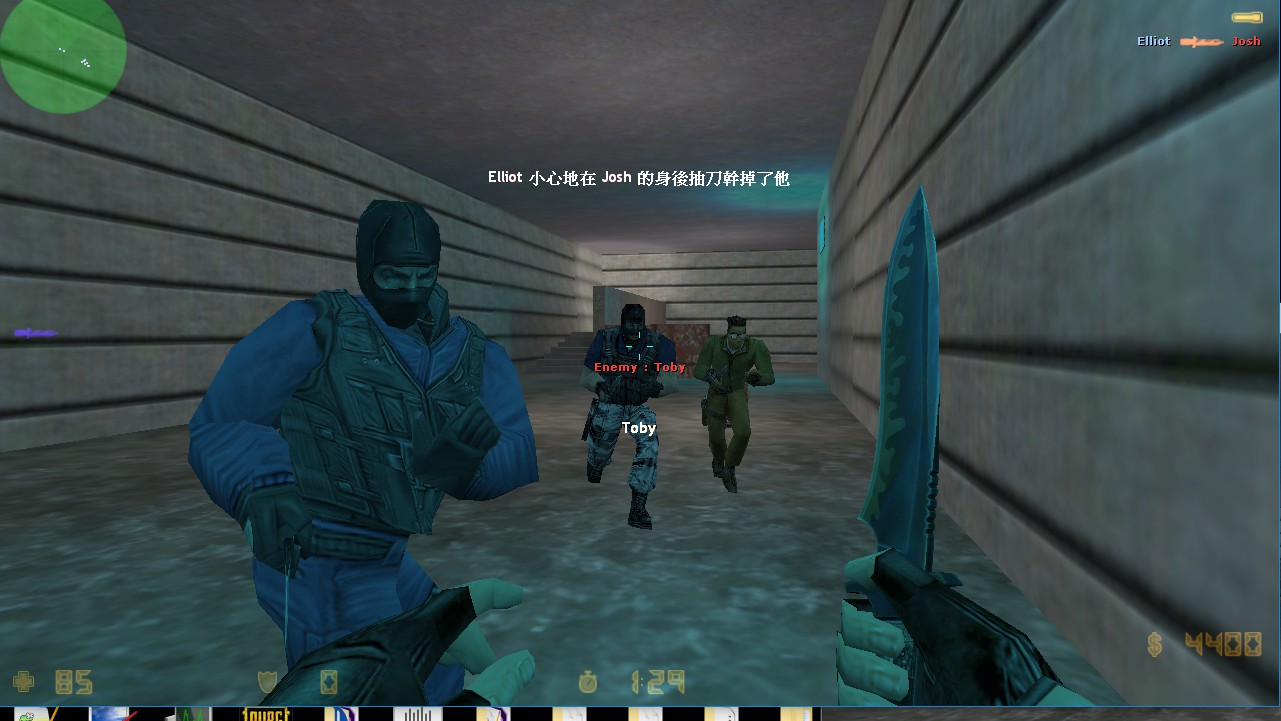person: (179, 200, 526, 700), (573, 308, 673, 529), (699, 306, 784, 506)
